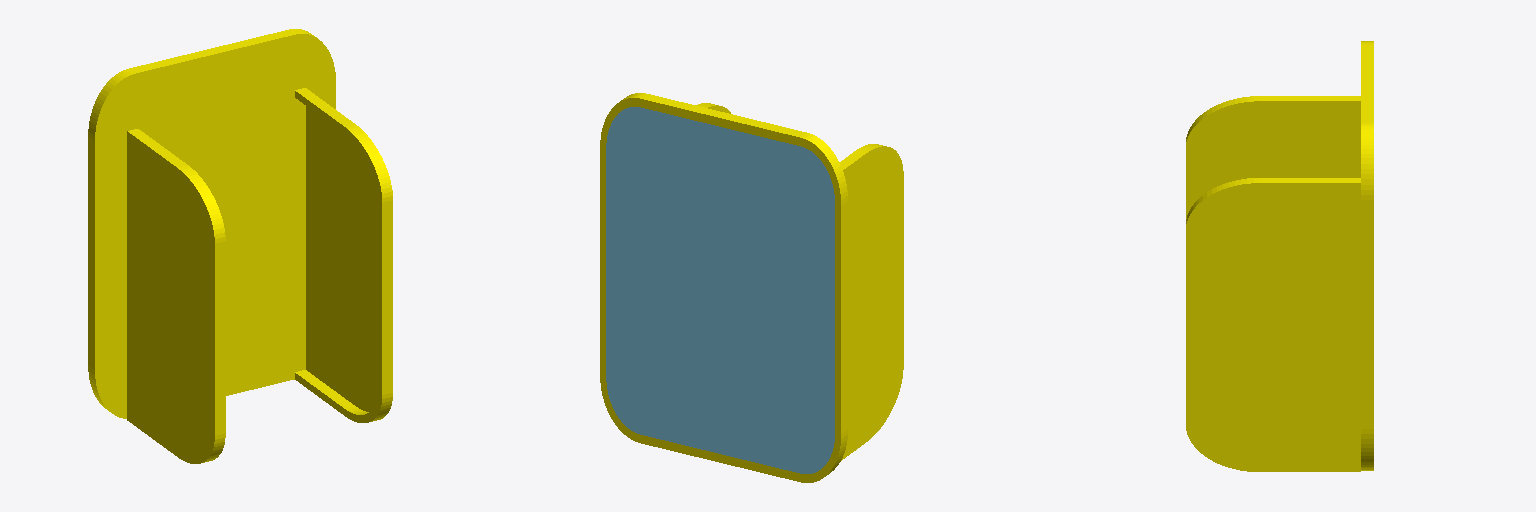
File: DefenderY1.obj
3 renders of one model, left to right at view 1: azimuth 30°, elevation 25°; view 2: azimuth 150°, elevation 25°; view 3: azimuth 270°, elevation 25°, orthographic.
Visible parts, largest first — view 1: DefenderY1_Куб.003; view 2: DefenderY1_Куб.003; view 3: DefenderY1_Куб.003.
Part boxes in pixels (x1,y1,x2,y2): DefenderY1_Куб.003: (88,29,392,463); DefenderY1_Куб.003: (600,93,903,482); DefenderY1_Куб.003: (1186,41,1373,471).
Bounding box in the file's own units: 0.1444 × 0.1973 × 0.098.